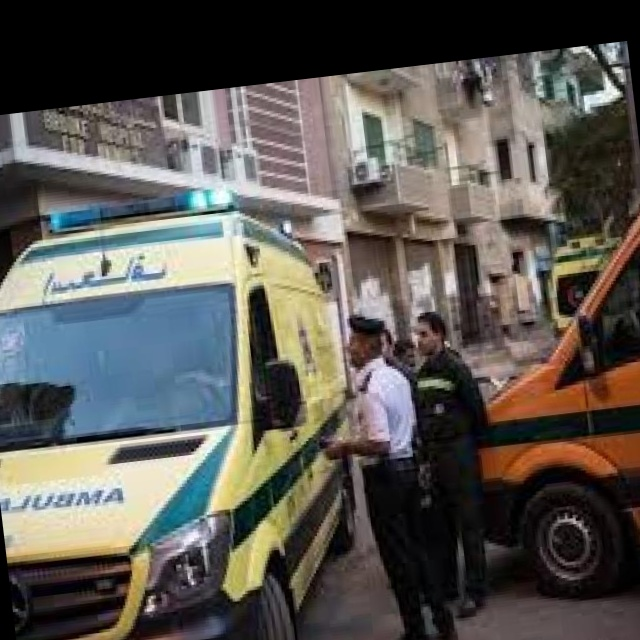Ambulance: (0, 173, 380, 640), (443, 200, 640, 609)
person: (305, 307, 459, 640), (401, 304, 510, 621)
